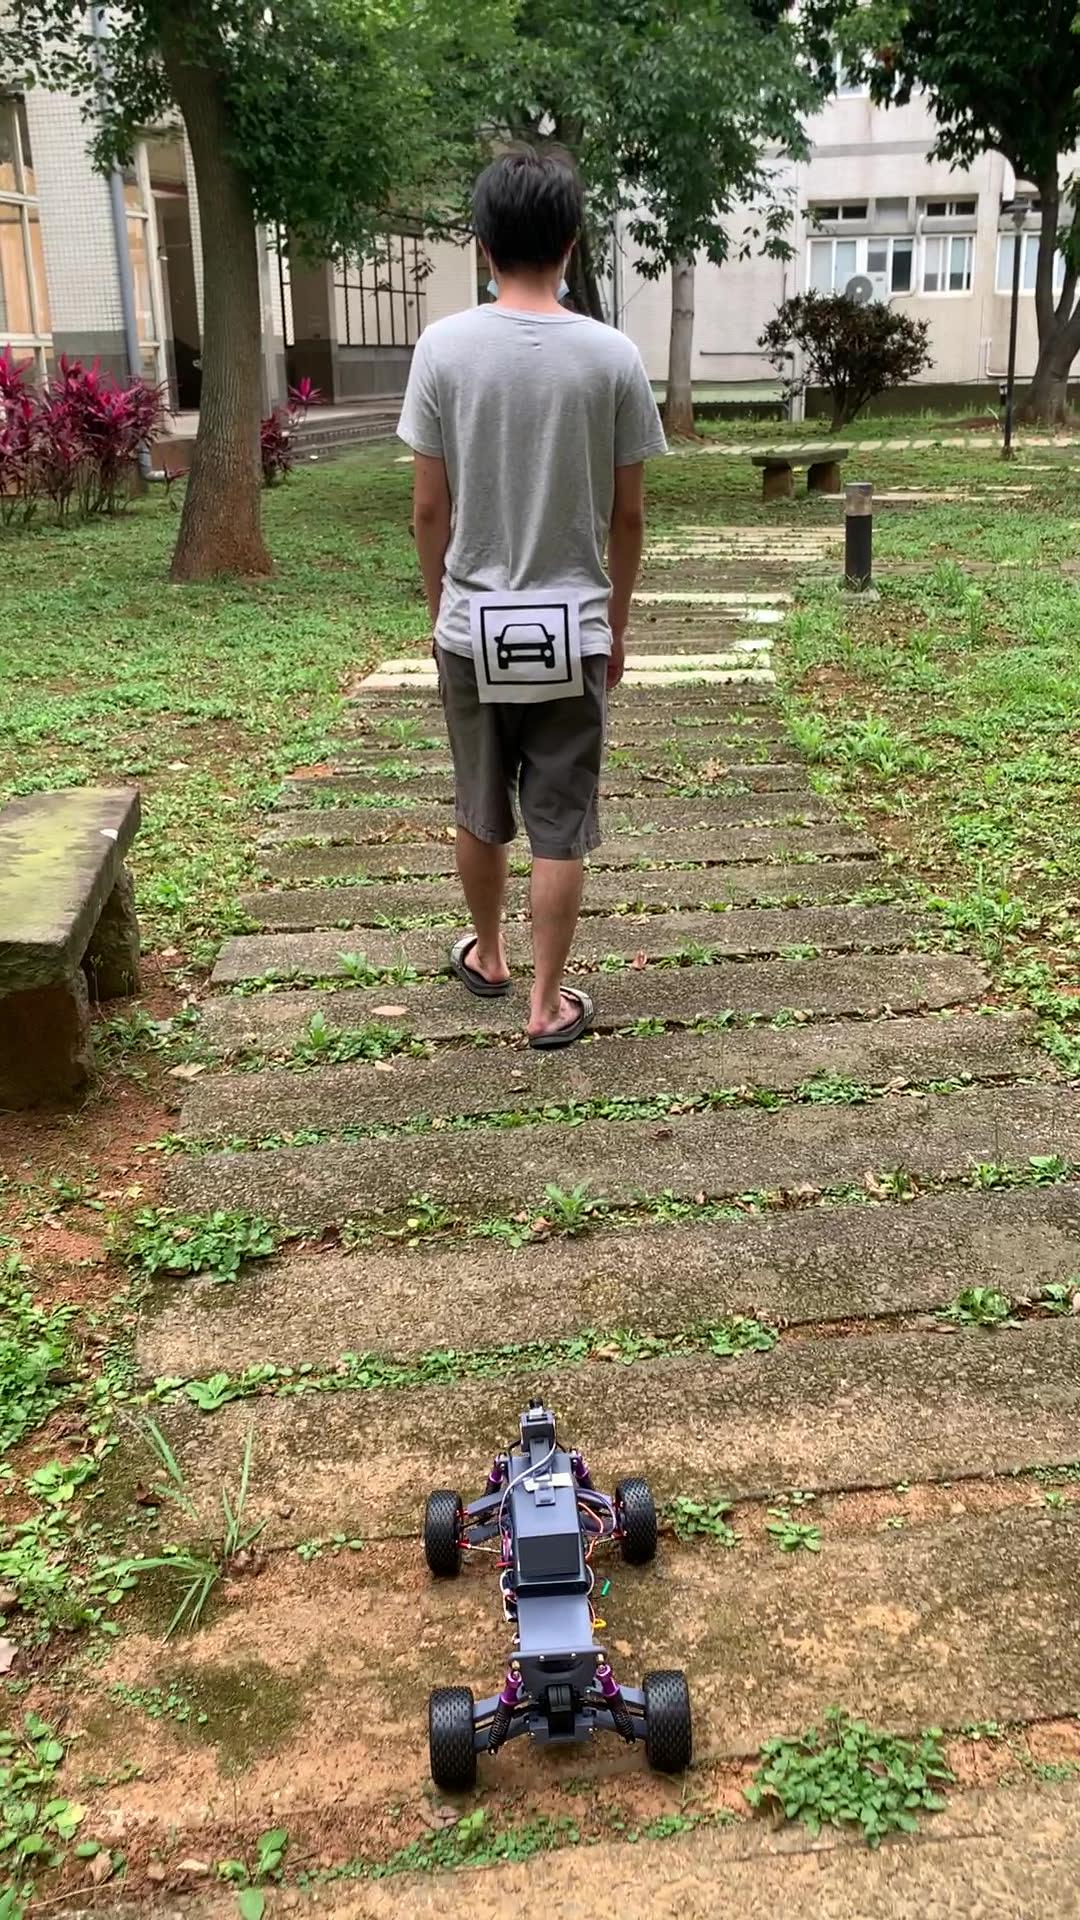car_img: (480, 603, 574, 686)
